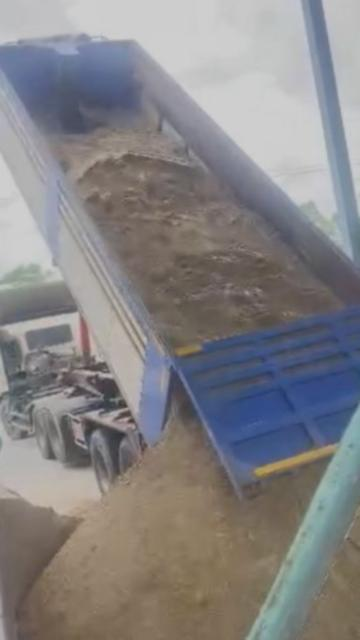sand: (22, 423, 323, 640), (51, 128, 341, 346), (277, 441, 360, 640), (0, 484, 77, 612), (164, 370, 193, 428)
